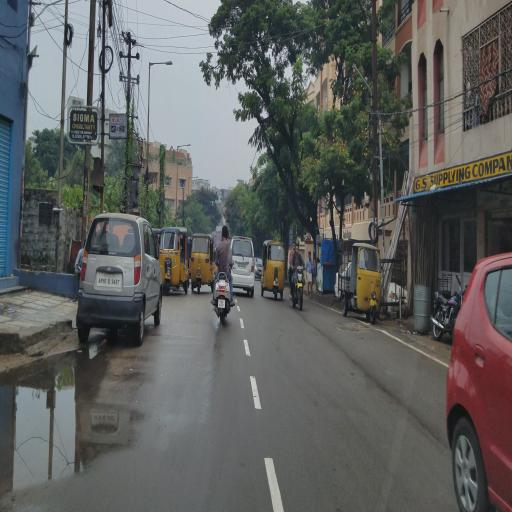street_light_0: (149, 49, 175, 77), (174, 137, 192, 156)
